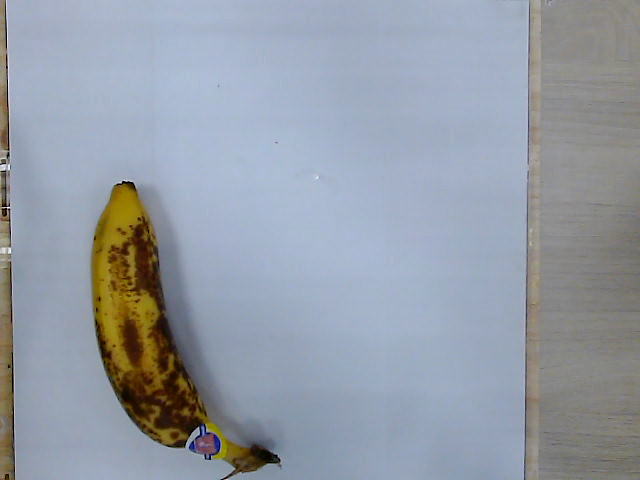rotten_banana: (92, 180, 279, 477)
